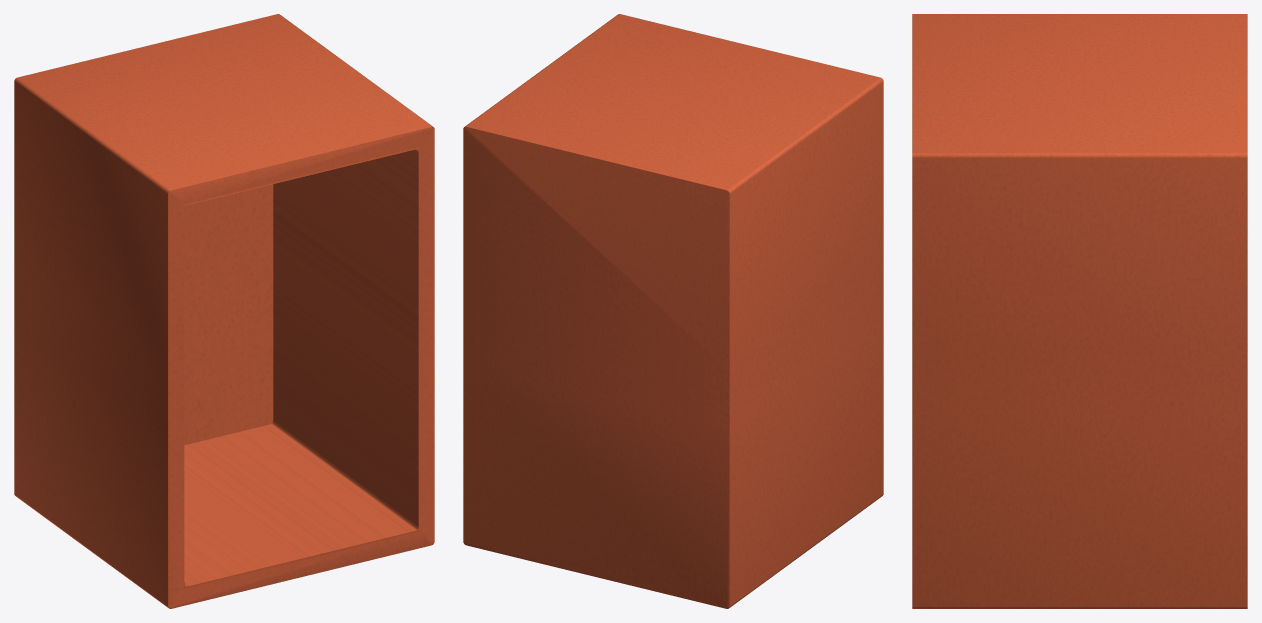
The model's file is HangingCabinets.001.fbx.
3 renders of one model, left to right at view 1: azimuth 30°, elevation 25°; view 2: azimuth 150°, elevation 25°; view 3: azimuth 270°, elevation 25°, orthographic. The views are drawn at different scales.
Visible parts, largest first — view 1: HangingCabinets.001_Baked; view 2: HangingCabinets.001_Baked; view 3: HangingCabinets.001_Baked.
Boxes of the visible parts, bbox=[...] form: HangingCabinets.001_Baked: bbox=[14, 14, 434, 608]; HangingCabinets.001_Baked: bbox=[463, 14, 883, 608]; HangingCabinets.001_Baked: bbox=[912, 14, 1247, 608].
Bounding box in the file's own units: 100 × 150 × 100.
1 material, 1 textured.
